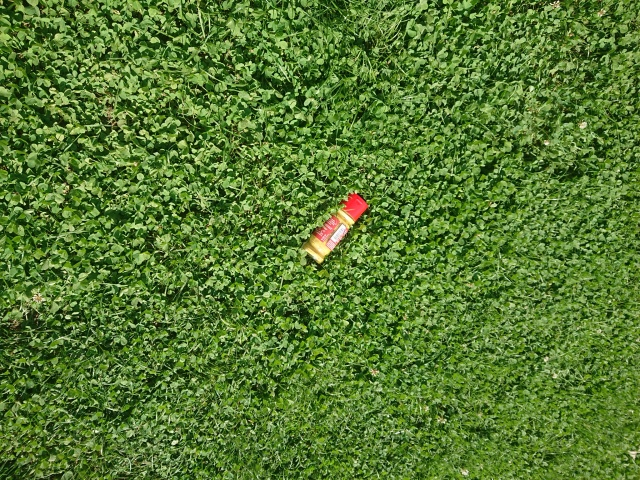Kotanyi Curry Spices Mix 70g: (298, 189, 370, 266)
